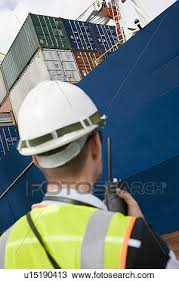Person_wearing_helmet: (4, 73, 114, 159)
